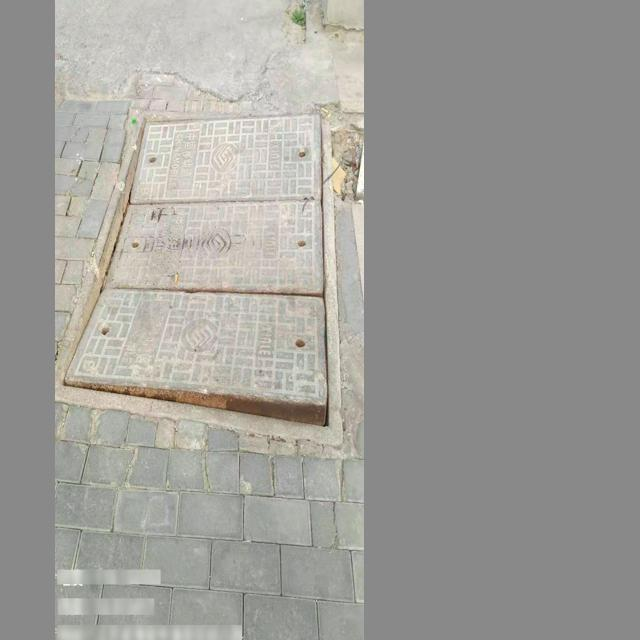uncovered: (61, 108, 343, 445)
